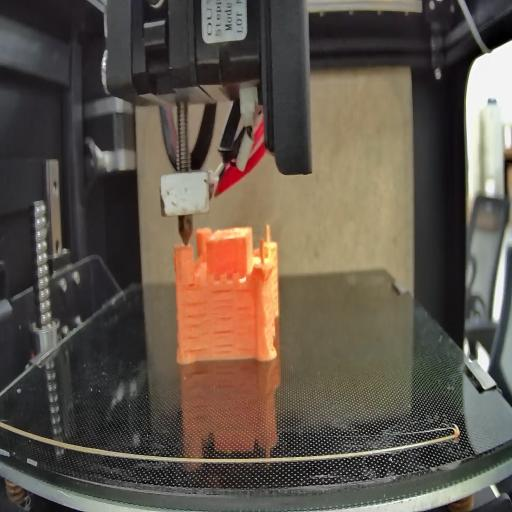cracks: (182, 301, 210, 351), (209, 291, 237, 323), (238, 305, 257, 348), (212, 327, 236, 352), (182, 279, 200, 293), (239, 287, 256, 293)
